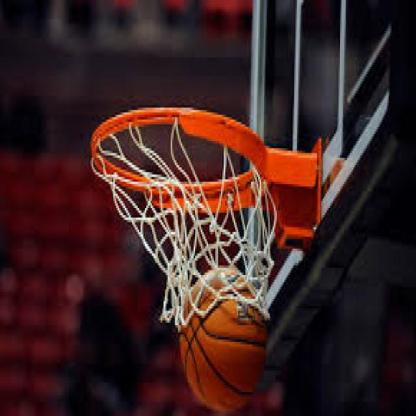basketball: (178, 268, 267, 409)
rim: (88, 103, 266, 217)
